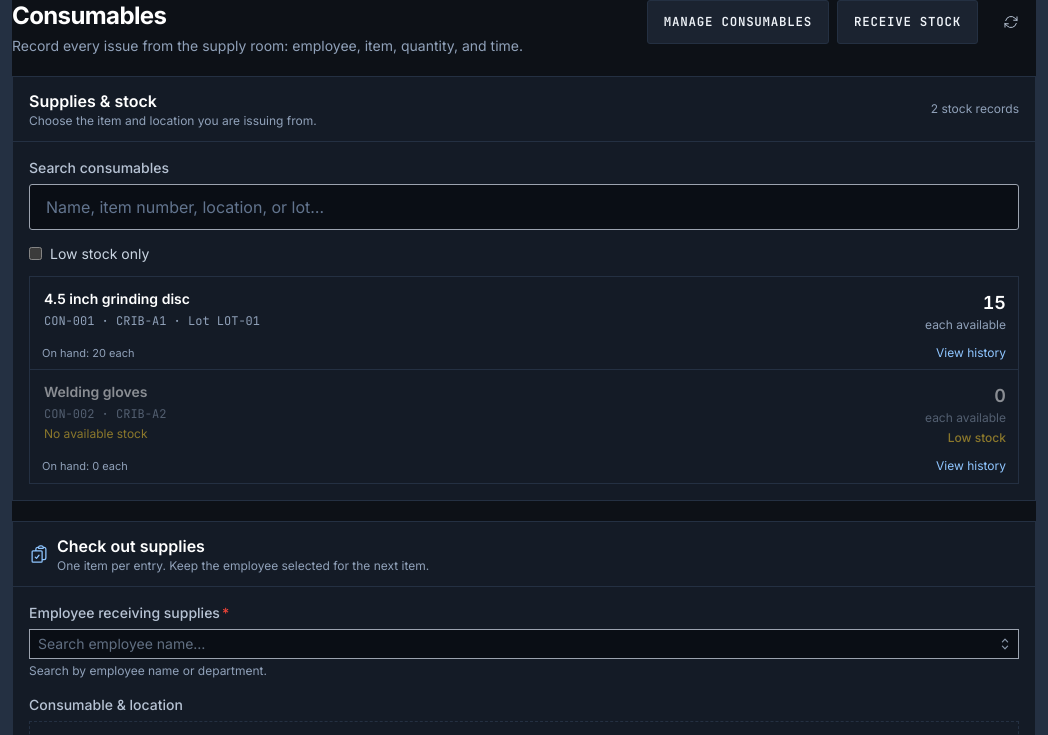
keeps a committed receipt successful when the subsequent stock refresh fails
Click the dropdown labelled "Employee receiving supplies*" at [524, 644], box [29,628,1019,658]
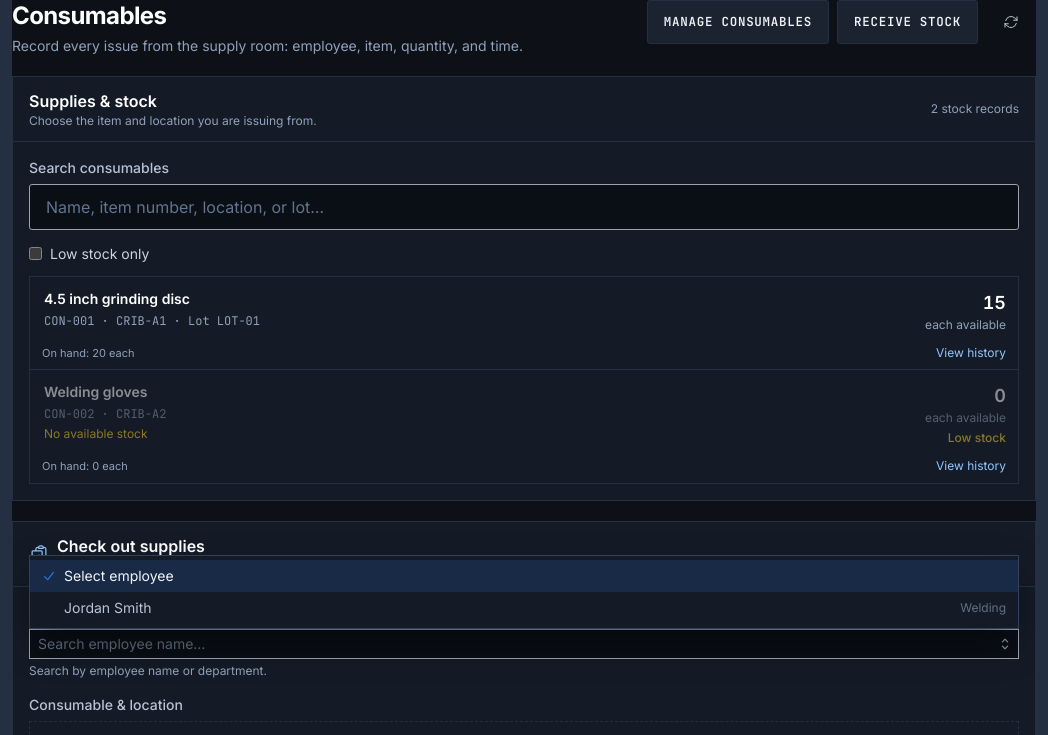
Click the option "Jordan Smith Welding" at [108, 607], box [30,592,1018,624]
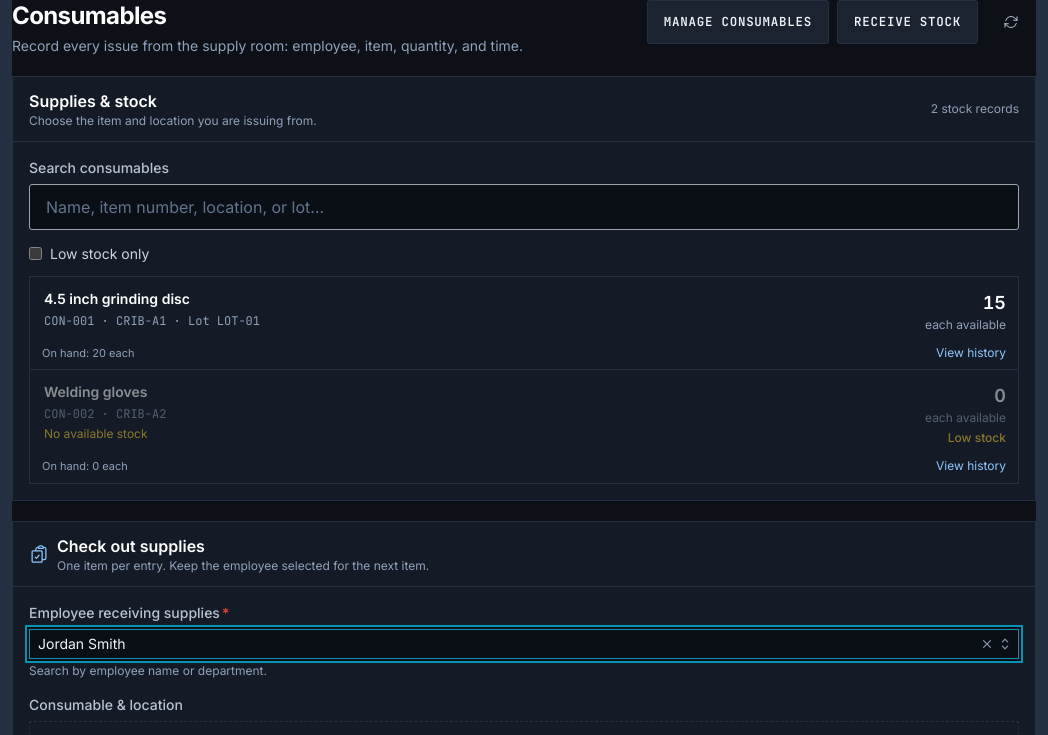
Click the button with aria-label "Select 4.5 inch grinding disc at CRIB-A1" at [117, 298], box [30,276,1018,344]
(page scrolled)
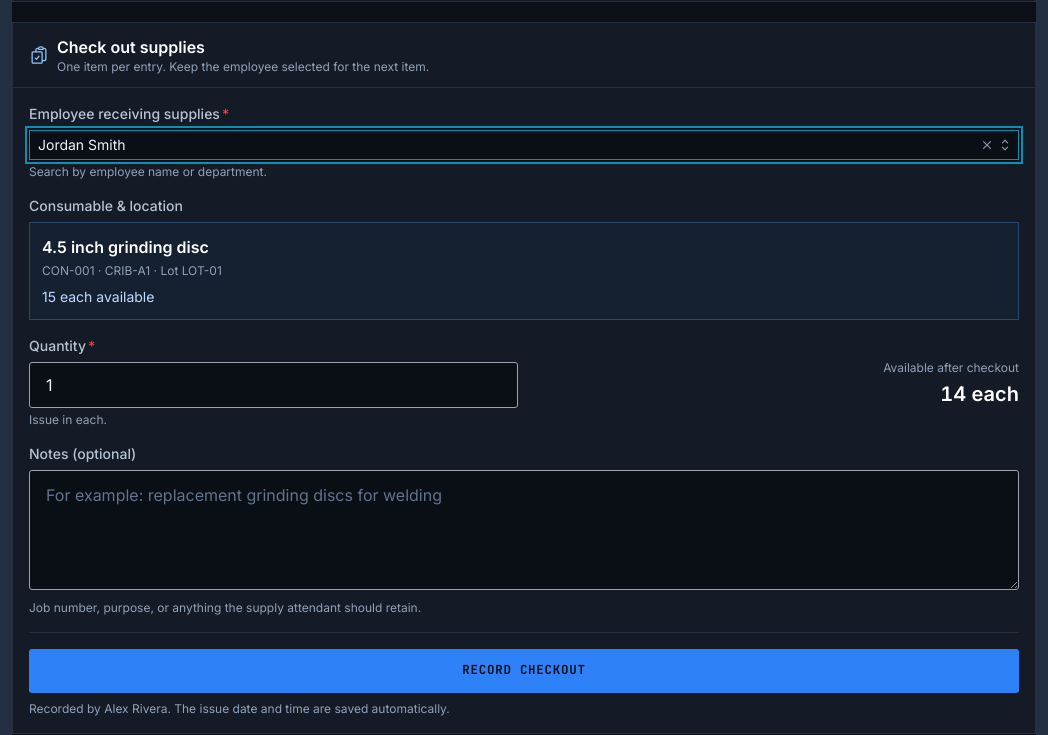
Replace the text in the number field labelled "Quantity*" with "3" at [274, 384], box [29,362,518,408]
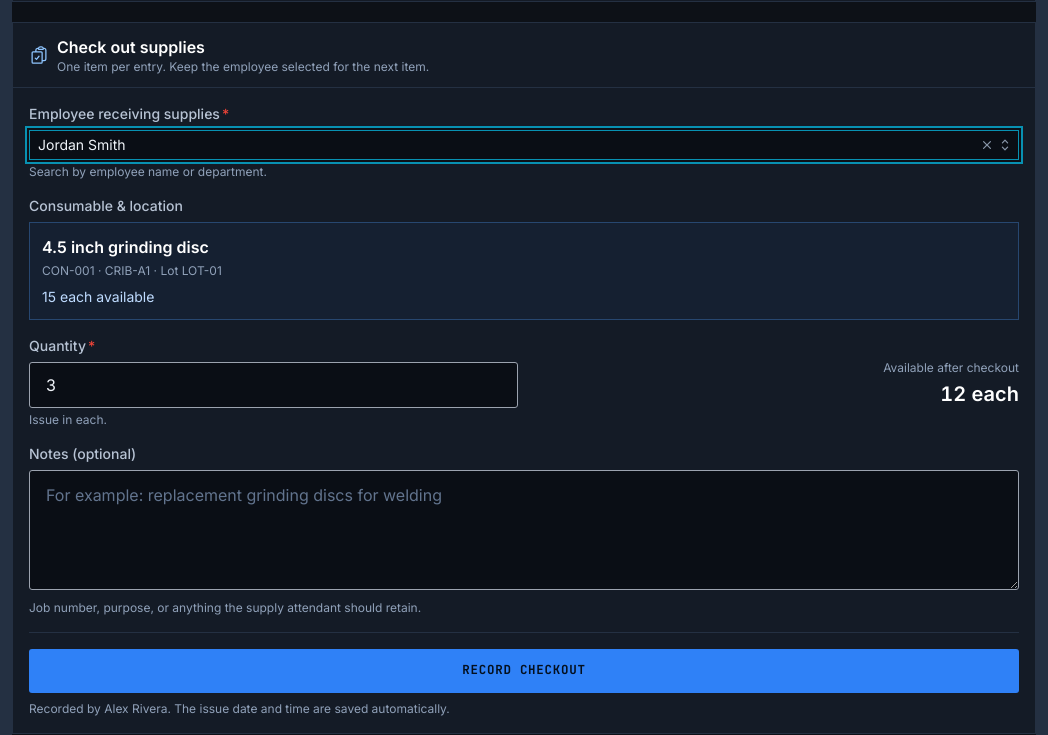
Type "Welding bay 2" into the text box labelled "Notes (optional)" at [524, 530], box [29,470,1019,590]
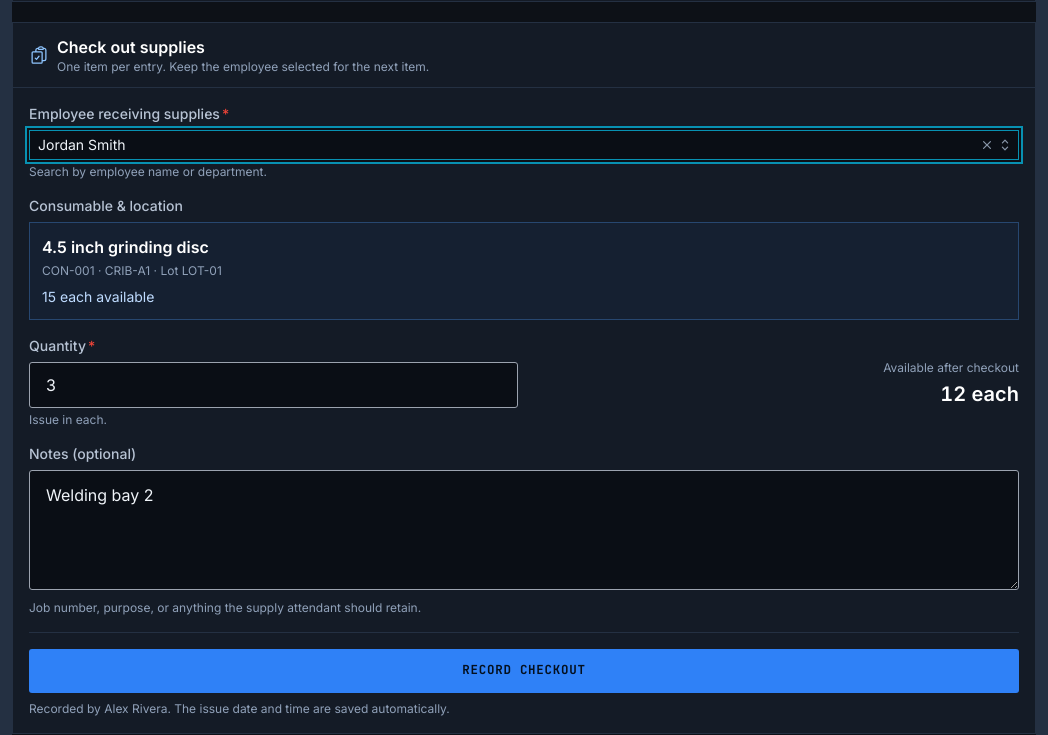
Click the button "Record checkout" at [524, 670], box [29,648,1019,692]
(page scrolled)
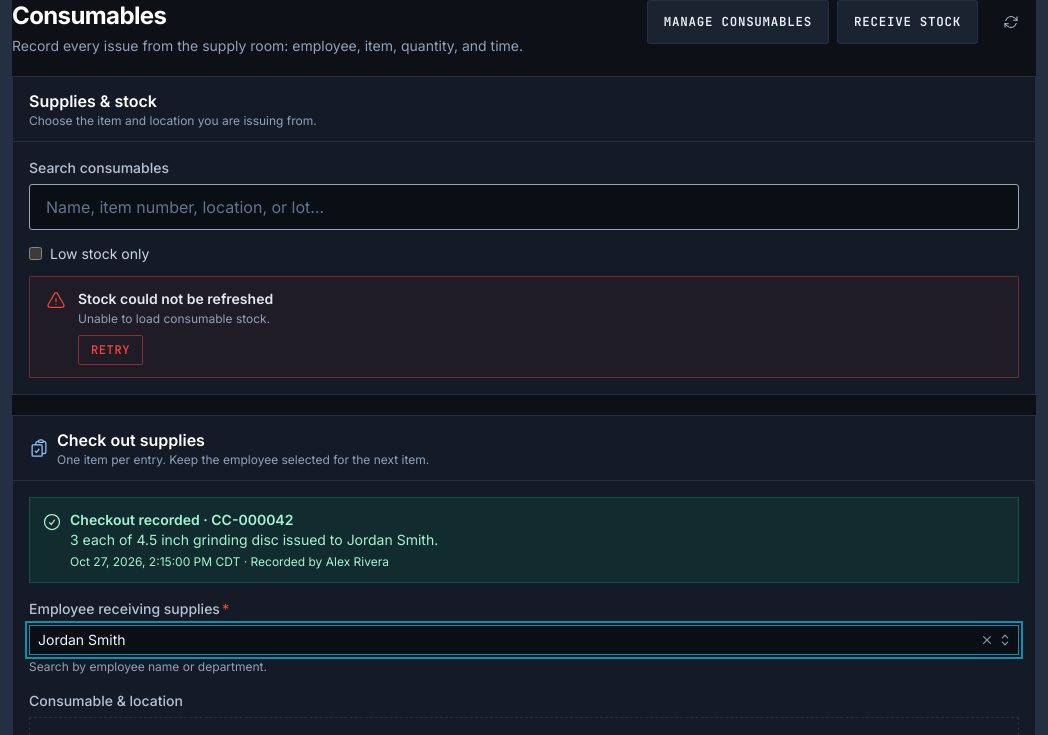
Result: the text "Checkout recorded · CC-000042" is shown at [70,510,293,528]
Result: the text "Stock could not be refreshed" is shown at [78,290,273,306]
